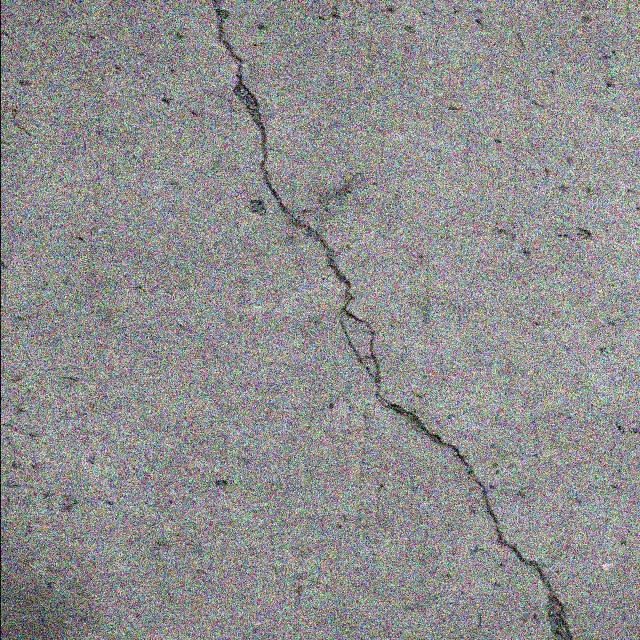SurfaceCrack: (112, 0, 640, 640)
